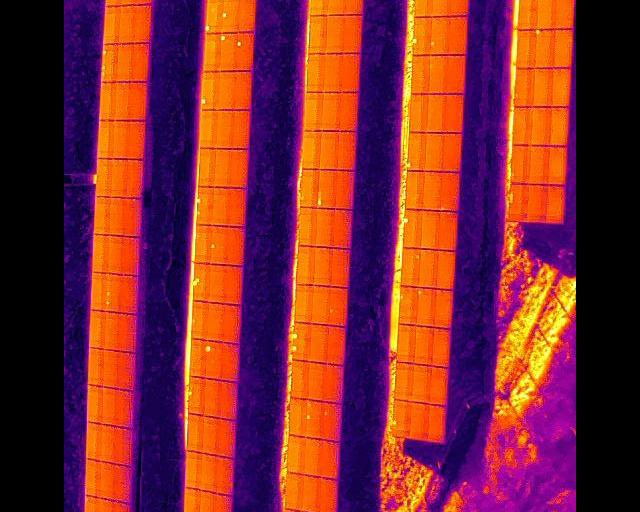Cell: (407, 131, 427, 169), (535, 29, 555, 67), (328, 287, 347, 324), (399, 286, 417, 324), (414, 17, 432, 55), (236, 32, 254, 70), (201, 71, 219, 109), (432, 17, 450, 54), (404, 208, 421, 247), (416, 286, 433, 325), (403, 248, 421, 284), (322, 403, 340, 439), (220, 33, 237, 71), (211, 225, 228, 263), (318, 169, 335, 207), (189, 377, 206, 413), (206, 341, 223, 377), (394, 399, 410, 436), (192, 301, 208, 337), (206, 0, 223, 32), (223, 0, 240, 32), (416, 0, 433, 16)
Cell-Multi: (101, 43, 118, 81), (294, 322, 311, 359), (306, 401, 323, 438), (198, 187, 214, 224), (194, 263, 210, 299), (107, 274, 123, 310)
No-Anomaly: (409, 93, 429, 132), (442, 133, 462, 171), (411, 54, 430, 93), (444, 93, 463, 132), (534, 68, 553, 107), (530, 145, 549, 184), (513, 106, 532, 144), (340, 53, 359, 91), (437, 211, 456, 249), (517, 29, 536, 67), (546, 185, 565, 223), (103, 6, 122, 44), (532, 107, 551, 145), (327, 326, 346, 364), (429, 366, 448, 403), (330, 247, 348, 286), (333, 208, 351, 247), (430, 54, 448, 93), (516, 67, 534, 106), (548, 146, 566, 185), (553, 67, 571, 106), (203, 32, 221, 71), (511, 145, 529, 183), (409, 402, 427, 440), (199, 147, 217, 185), (335, 170, 353, 208), (91, 234, 109, 272), (415, 326, 433, 364), (427, 405, 445, 443), (436, 250, 454, 288), (432, 328, 450, 366), (94, 196, 112, 234), (434, 288, 452, 326), (449, 16, 467, 54), (447, 55, 465, 93), (227, 226, 245, 264), (224, 304, 242, 342), (555, 29, 573, 67), (550, 107, 568, 145), (119, 313, 137, 351), (130, 81, 148, 119), (126, 159, 144, 197), (132, 42, 150, 80), (200, 110, 218, 148), (325, 365, 344, 401), (229, 189, 247, 226), (225, 265, 243, 302), (231, 149, 249, 186), (528, 185, 546, 222), (419, 248, 436, 287), (423, 170, 440, 209), (97, 119, 114, 158), (440, 171, 457, 210), (219, 70, 236, 109), (235, 70, 252, 109), (116, 42, 133, 81), (125, 236, 142, 275), (296, 285, 314, 321), (218, 419, 236, 455), (220, 382, 238, 418), (322, 441, 340, 477), (99, 82, 116, 120), (340, 92, 357, 130), (337, 131, 354, 169), (343, 15, 360, 53), (406, 170, 423, 208), (413, 364, 430, 402), (428, 93, 445, 131), (426, 132, 443, 170), (309, 15, 326, 53), (215, 148, 232, 186), (110, 197, 127, 235), (119, 351, 136, 389), (119, 4, 136, 42), (128, 120, 145, 158), (134, 4, 151, 42), (104, 312, 121, 350), (315, 247, 332, 285), (320, 130, 337, 168), (421, 208, 437, 248), (184, 452, 202, 487), (287, 437, 305, 472), (285, 474, 303, 509), (305, 439, 323, 474), (85, 459, 102, 496), (87, 385, 104, 422), (85, 423, 102, 460), (398, 324, 415, 361), (96, 158, 113, 195), (289, 398, 306, 435), (123, 275, 140, 312), (298, 245, 314, 284), (233, 109, 249, 148), (115, 81, 131, 120), (115, 463, 131, 502), (100, 463, 117, 499), (88, 348, 105, 384), (293, 361, 310, 397), (222, 343, 239, 379), (196, 224, 212, 262), (89, 310, 105, 348), (311, 324, 327, 362), (218, 109, 234, 147), (308, 54, 324, 92), (299, 207, 315, 245), (111, 158, 127, 196), (113, 120, 129, 158), (126, 197, 142, 235), (316, 208, 332, 246), (326, 15, 342, 53), (323, 92, 339, 130), (324, 53, 340, 91), (109, 234, 124, 274), (204, 381, 221, 416), (217, 458, 234, 493), (117, 391, 134, 426), (200, 455, 217, 490), (203, 417, 220, 452), (103, 388, 120, 423), (319, 479, 337, 512), (396, 362, 412, 399), (208, 303, 224, 340), (306, 92, 322, 129), (303, 131, 319, 168), (308, 362, 324, 399), (313, 286, 329, 323), (209, 265, 225, 301), (214, 188, 230, 224), (239, 0, 257, 32), (302, 476, 318, 512), (302, 169, 317, 207), (187, 414, 203, 449), (116, 428, 132, 463), (90, 272, 105, 309), (191, 339, 206, 376), (104, 350, 119, 387), (556, 0, 575, 29), (101, 425, 116, 461), (537, 0, 556, 28), (518, 0, 537, 28), (184, 489, 201, 512), (200, 492, 216, 512), (433, 0, 451, 17), (215, 495, 232, 512), (451, 0, 469, 15), (344, 0, 361, 14), (328, 0, 345, 14), (84, 497, 99, 512), (311, 0, 327, 14), (98, 499, 113, 512), (114, 503, 132, 512)
Unclassified: (509, 184, 528, 221)
